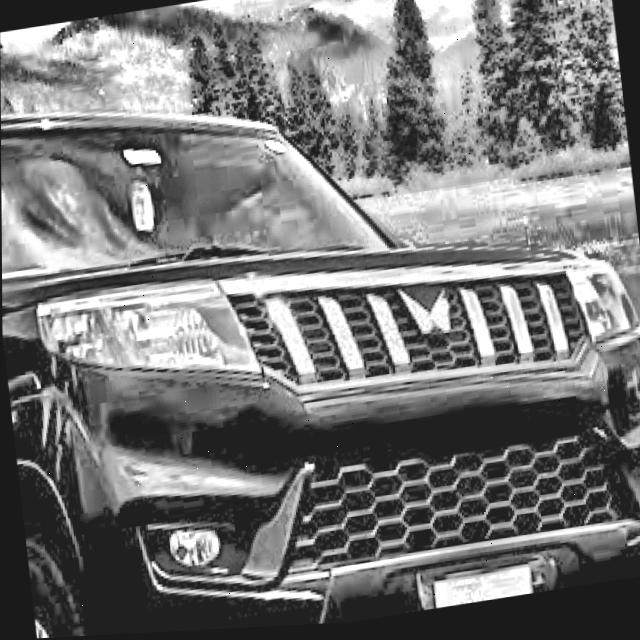light_vehicle: (0, 30, 640, 640)
